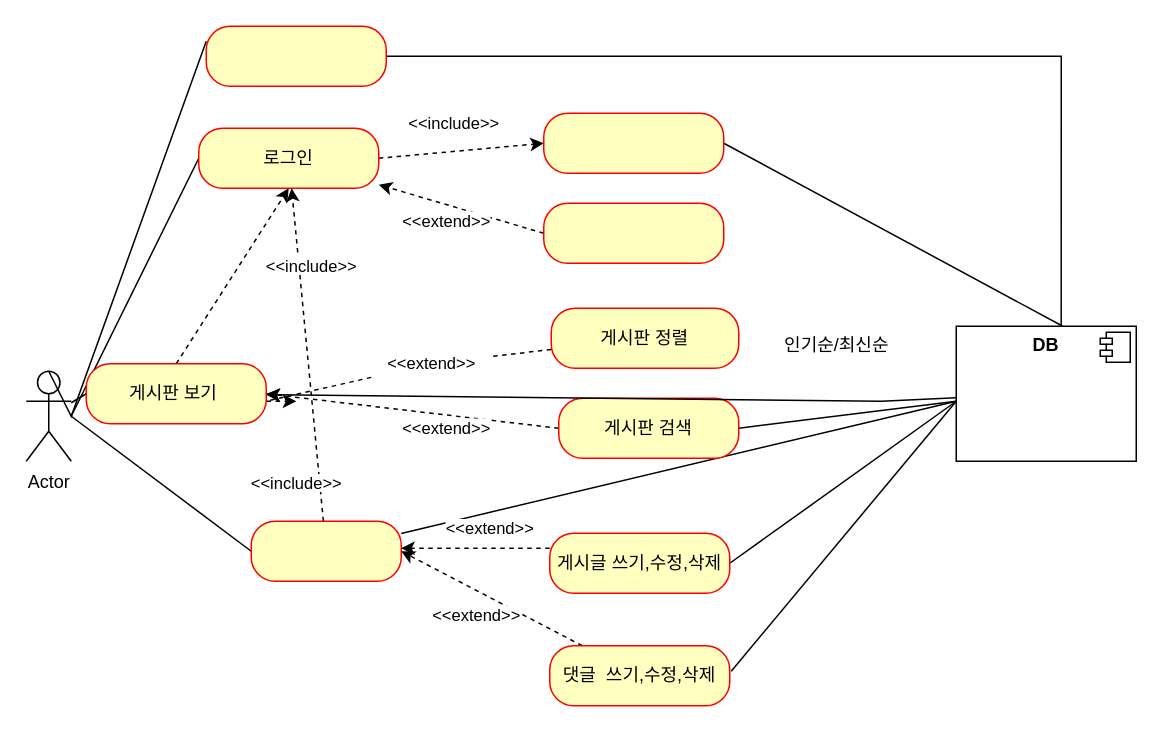
The diagram is 1163 pixels wide and 732 high, and some of its shapes have lost their labels. The centre of each missing label's shape, as x and y in pixels:
"게시글 보기" goes at point 325,550.
"로그인 실패" goes at point 633,232.
"인증" goes at point 633,142.
"회원가입" goes at point 295,55.
